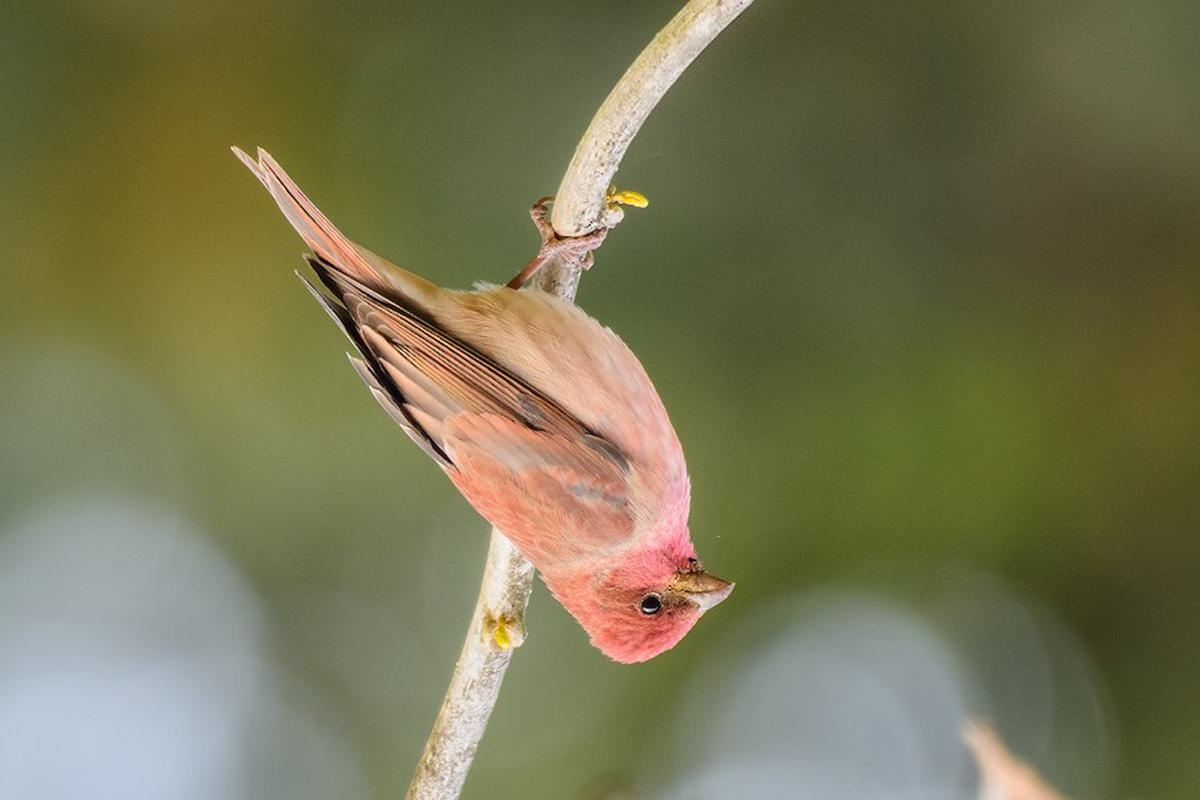rosefinch: (241, 173, 765, 678)
